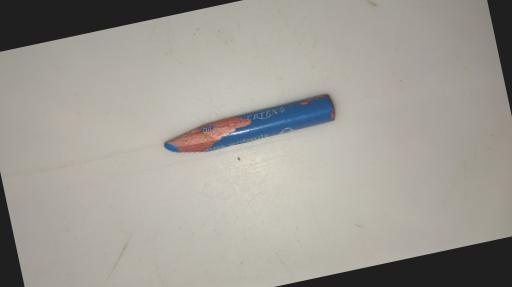Pencil: (158, 90, 336, 158)
